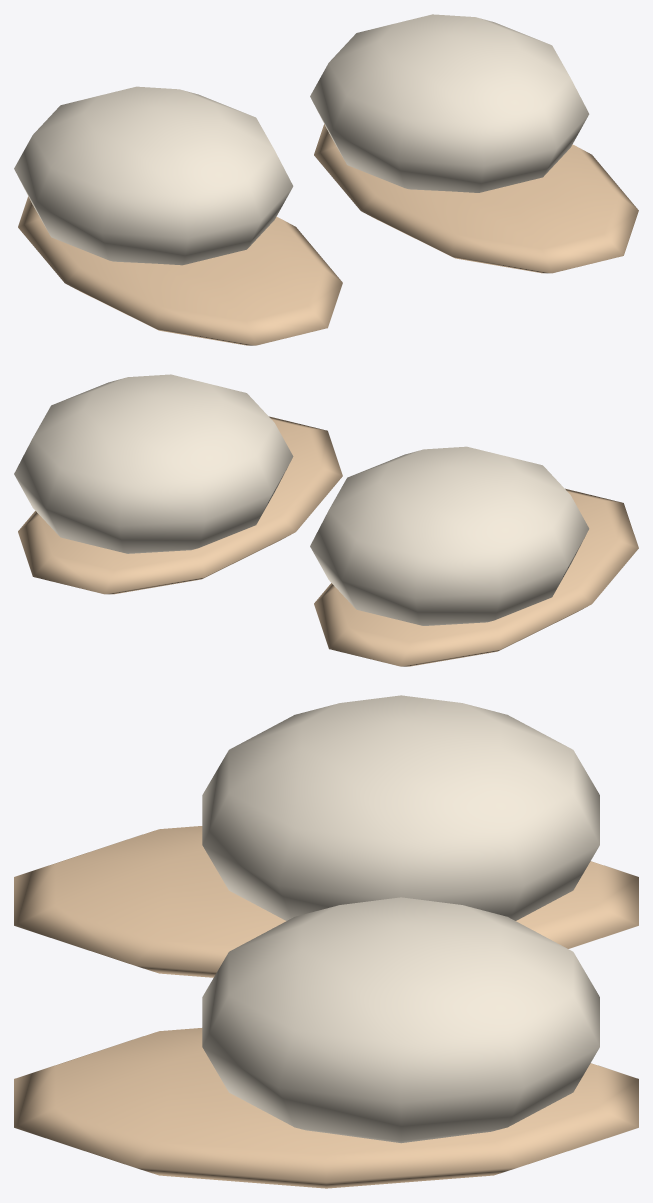
File: bathroom_ref_slippers.glb
3 views of the same model, one above another, from view 1: azimuth 30°, elevation 25°; view 2: azimuth 150°, elevation 25°; view 3: azimuth 270°, elevation 25° (orthographic). The views are drawn at different scales.
Size of the model in its own units: 0.576 by 0.157 by 0.4185.
